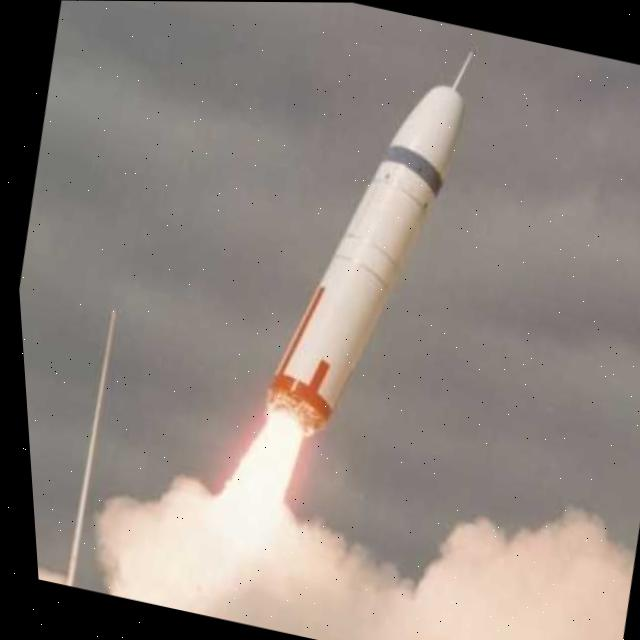missile: (231, 8, 504, 458)
